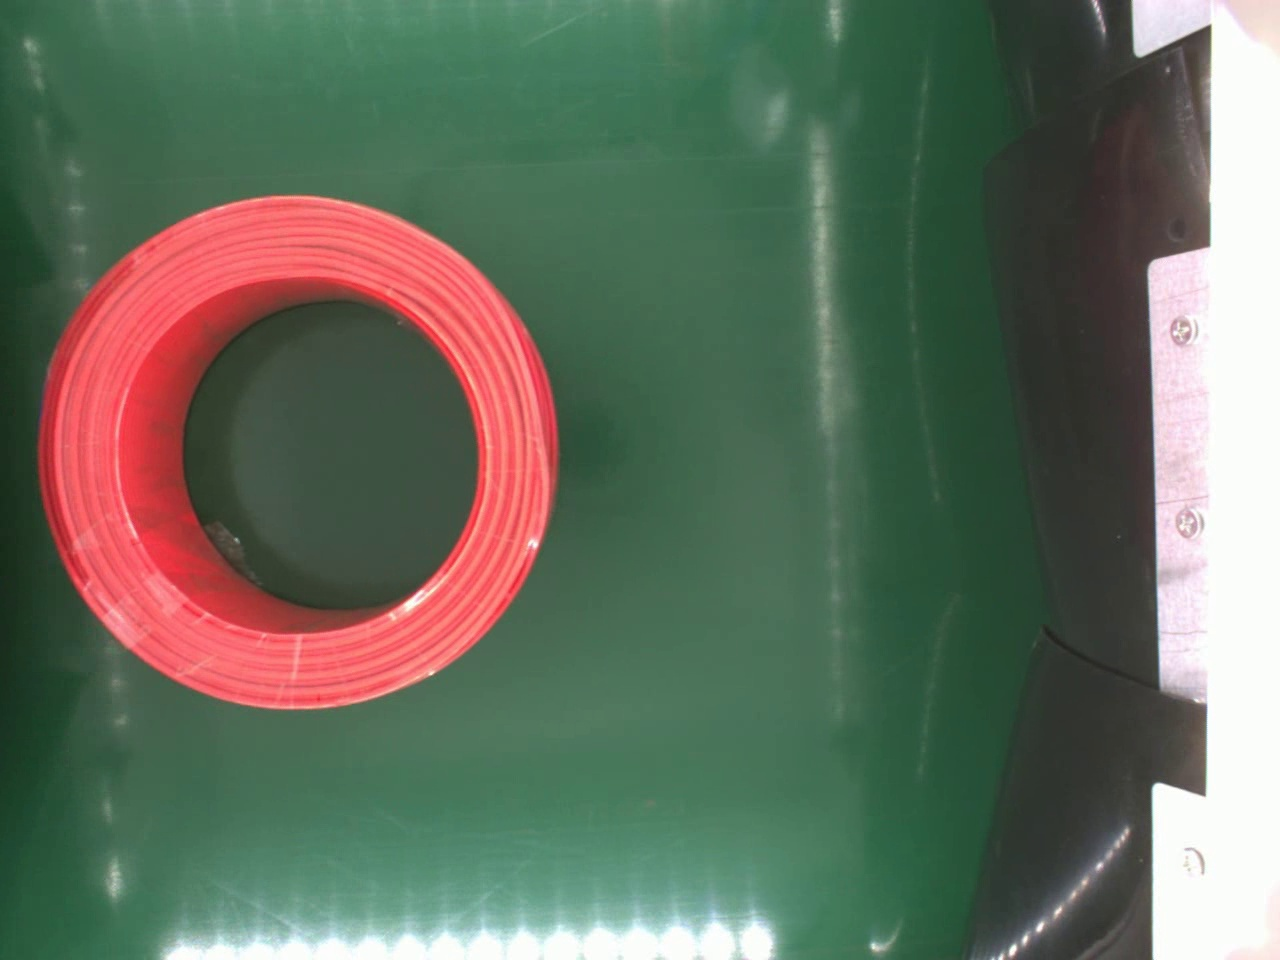red: (35, 187, 559, 709)
